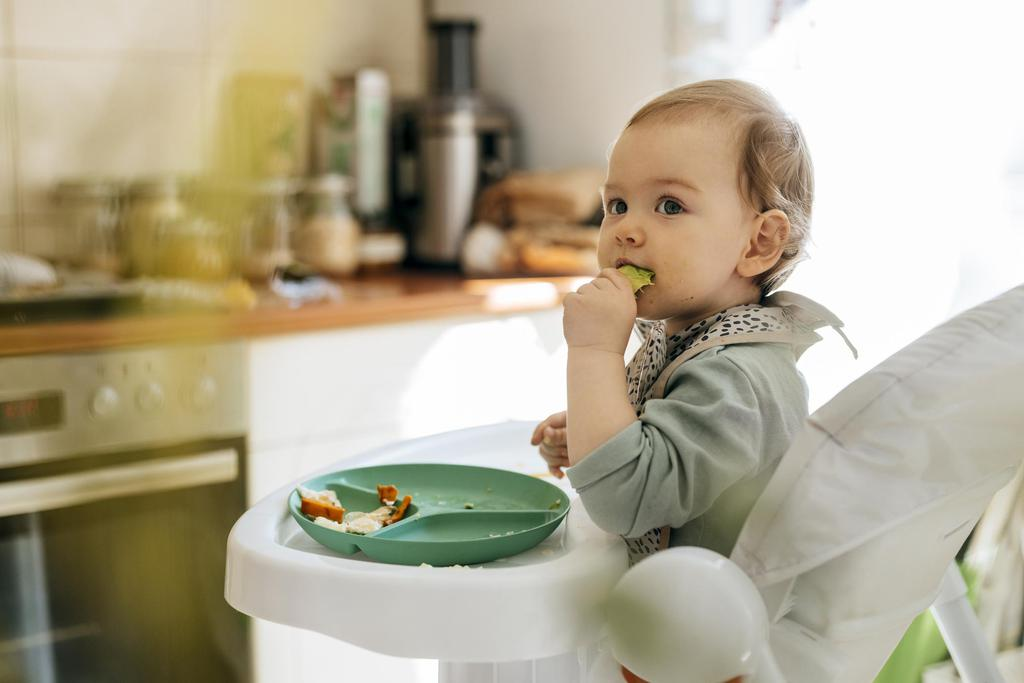child: (555, 59, 883, 599)
